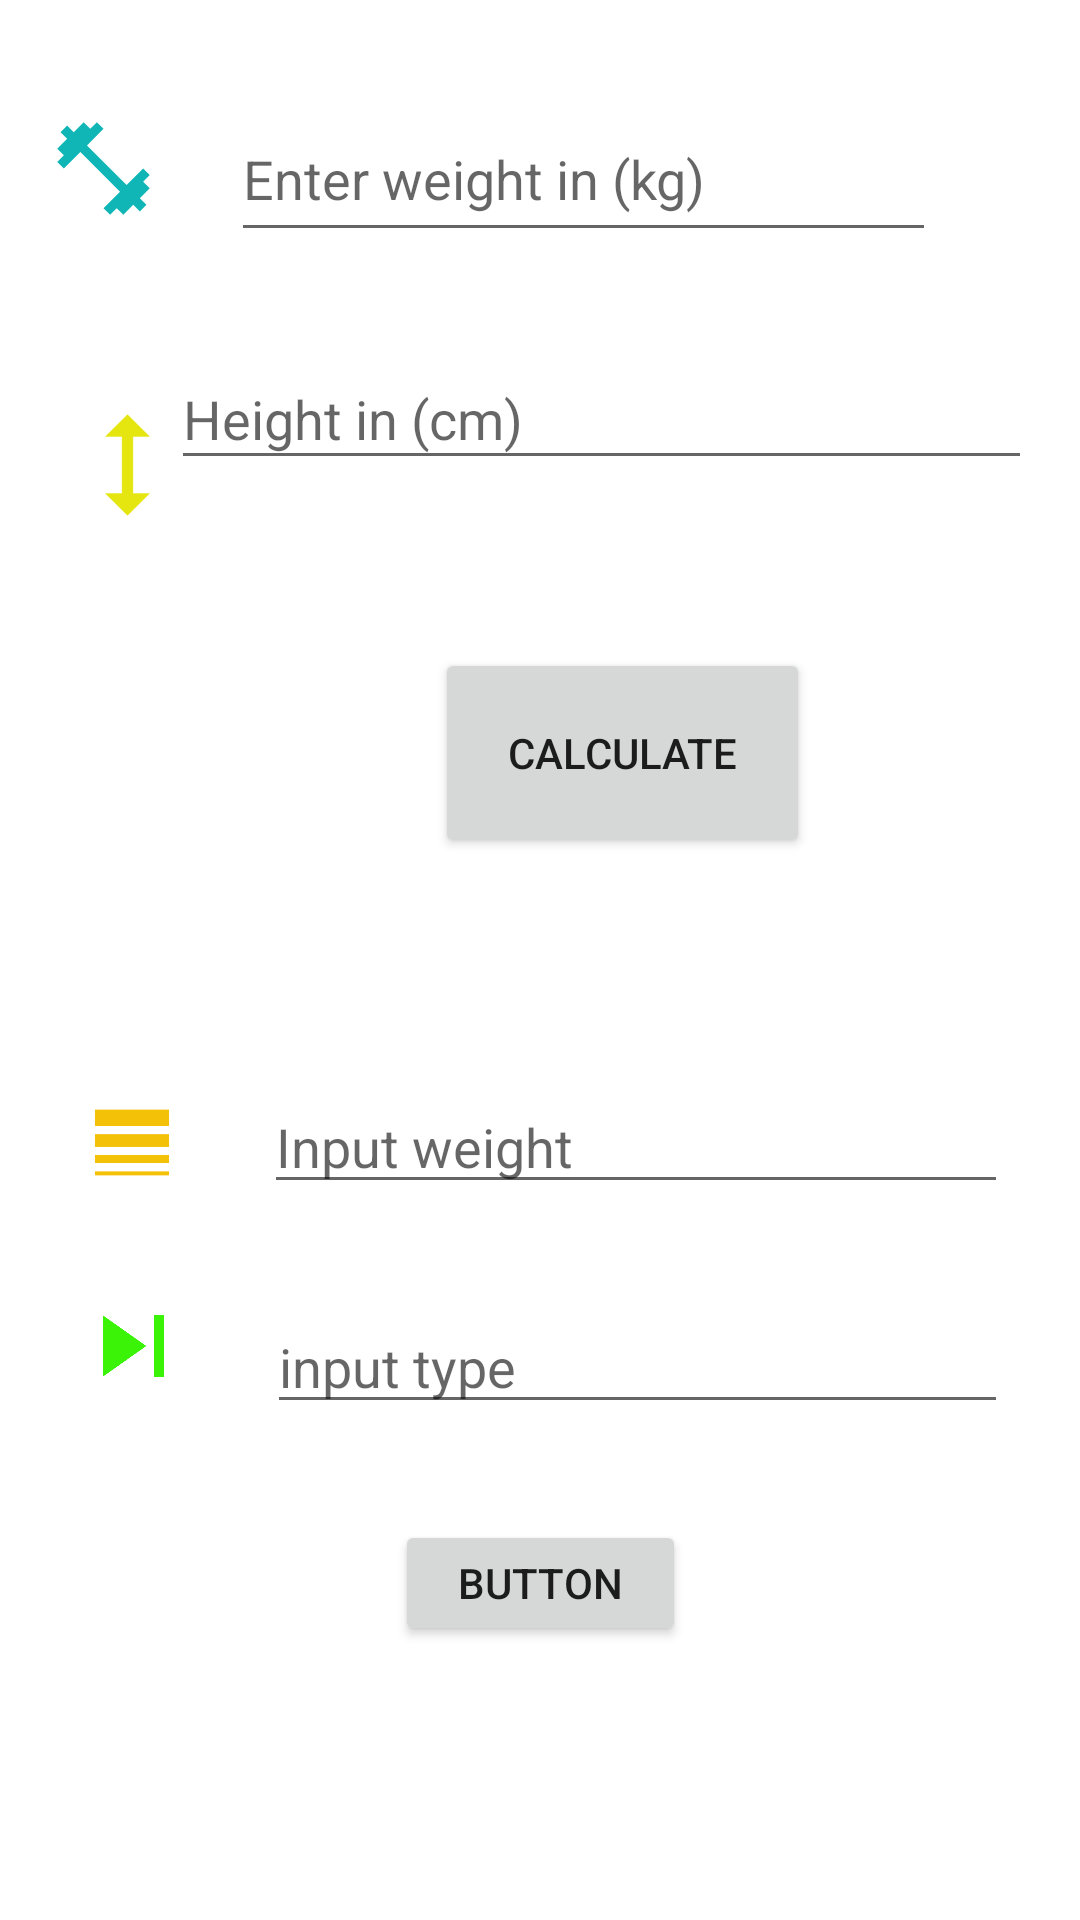

Named icons in this screenshot (1080 × 1920) and their bounding boxes, detection(x1, y1, x2, y2):
fitness center: detection(57, 122, 150, 215)
line weight: detection(95, 1109, 169, 1176)
skip next: detection(103, 1315, 164, 1377)
